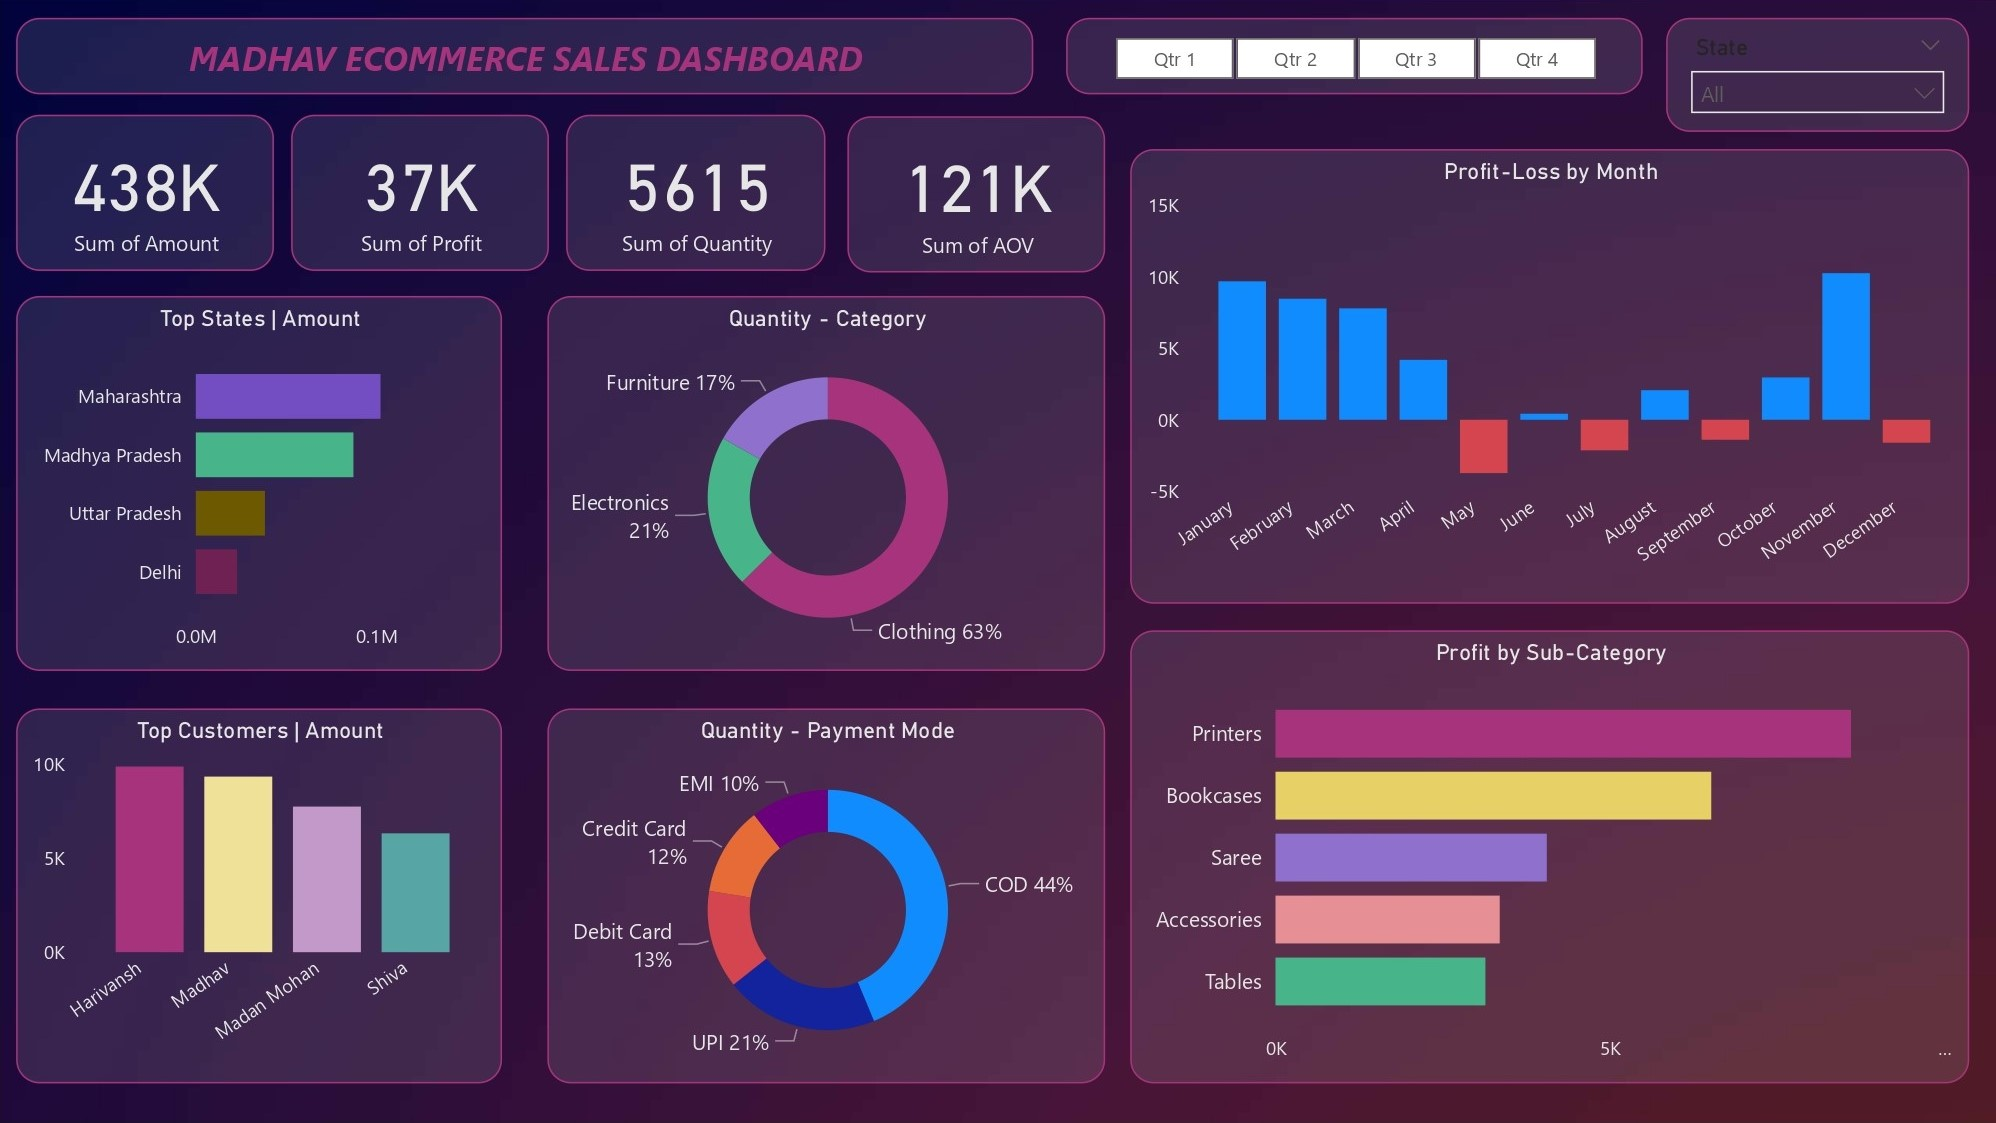

Layout of this report page (visuals, bound fields, positions):
{"tool":"powerbi","page":{"name":"Page 1","canvas":[1280,720],"ordinal":0},"visuals":[{"type":"textbox","box":[9.5,12.7,651.7,49.3],"z":0},{"type":"columnChart","title":"Profit-Loss by Month","fields":{"Category":["Orders.Order Date.Variation.Date Hierarchy.Month"],"Y":["Details.Profit"]},"box":[723.2,97,537.2,290.9],"z":1000},{"type":"barChart","title":"Profit by Sub-Category","fields":{"Y":["Details.Profit"],"Category":["Details.Sub-Category"]},"box":[723.2,405.3,537.2,290],"z":2000},{"type":"donutChart","title":"Quantity - Category","fields":{"Category":["Details.Category"],"Y":["Details.Quantity"]},"box":[349.7,190.7,357.6,240],"z":3000},{"type":"donutChart","title":"Quantity - Payment Mode","fields":{"Y":["Details.Quantity"],"Category":["Details.PaymentMode"]},"box":[349.7,454.6,357.6,240],"z":4000},{"type":"card","fields":{"Values":["Details.Amount"]},"box":[9.5,74.7,165,100.1],"z":5000},{"type":"card","fields":{"Values":["Details.Quantity"]},"box":[362.4,74.7,165.3,100.1],"z":6000},{"type":"card","fields":{"Values":["Details.Profit"]},"box":[186,74.7,165.3,100.1],"z":7000},{"type":"card","fields":{"Values":["Details.AOV"]},"box":[542,76.3,165.3,100.1],"z":8000},{"type":"barChart","title":"Top States | Amount","fields":{"Category":["Orders.State"],"Y":["Details.Amount"]},"box":[9.5,190.7,311.5,240],"z":9000},{"type":"columnChart","title":"Top Customers | Amount","fields":{"Category":["Orders.CustomerName"],"Y":["Details.Amount"]},"box":[9.5,454.6,311.5,240],"z":10000},{"type":"slicer","fields":{"Values":["Orders.Order Date.Variation.Date Hierarchy.Quarter"]},"box":[681.9,12.7,368.7,49.3],"z":11000},{"type":"slicer","fields":{"Values":["Orders.State"]},"box":[1066.5,12.7,193.9,73.1],"z":12000}]}

Visuals, with their boxes in screenshot pixels (x1, y1, x2, y2), scaled from the page's 1280x720 canvas onto the 1996x1123 screenshot:
textbox: crop(15, 20, 1031, 97)
"Profit-Loss by Month" columnChart: crop(1128, 151, 1965, 605)
"Profit by Sub-Category" barChart: crop(1128, 632, 1965, 1084)
"Quantity - Category" donutChart: crop(545, 297, 1103, 672)
"Quantity - Payment Mode" donutChart: crop(545, 709, 1103, 1083)
card - Details.Amount: crop(15, 117, 272, 273)
card - Details.Quantity: crop(565, 117, 823, 273)
card - Details.Profit: crop(290, 117, 548, 273)
card - Details.AOV: crop(845, 119, 1103, 275)
"Top States | Amount" barChart: crop(15, 297, 501, 672)
"Top Customers | Amount" columnChart: crop(15, 709, 501, 1083)
slicer - Orders.Order Date.Variation.Date Hierarchy.Quarter: crop(1063, 20, 1638, 97)
slicer - Orders.State: crop(1663, 20, 1965, 134)
